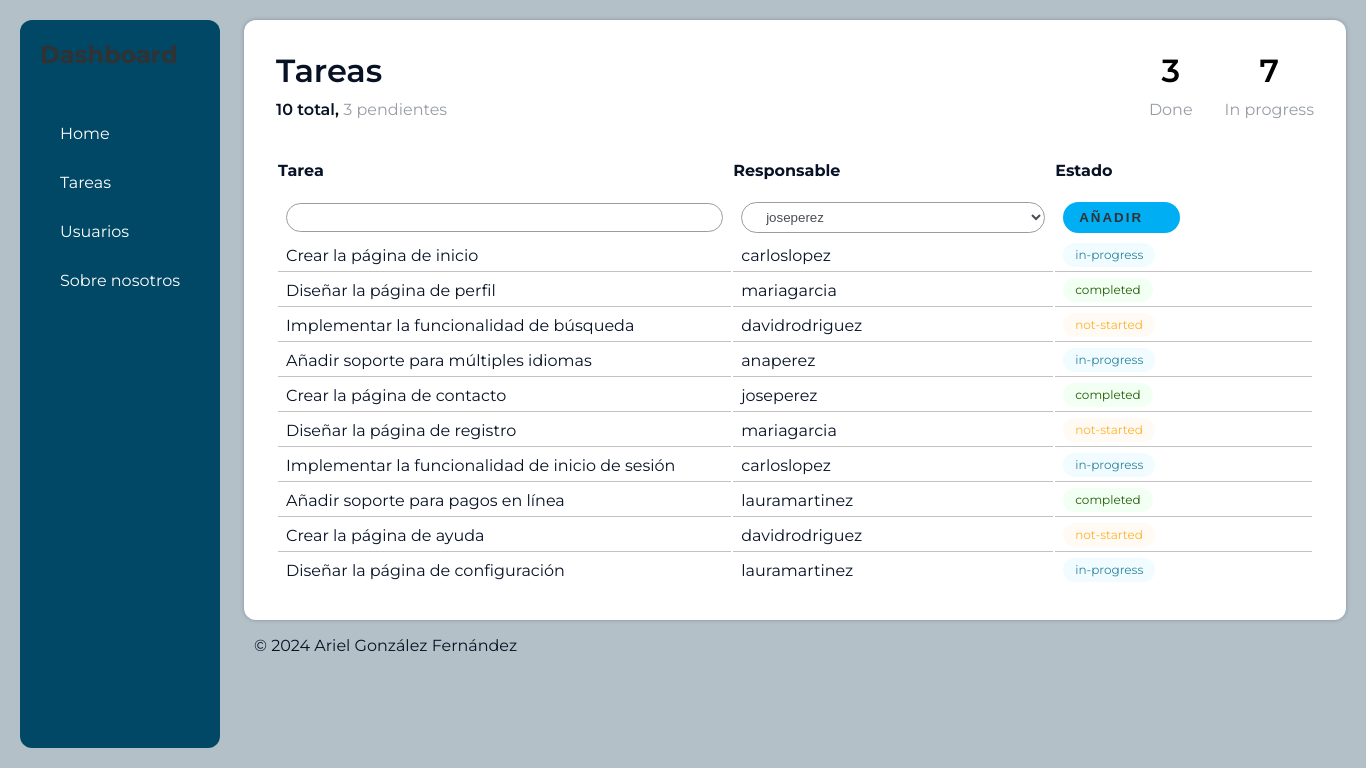
Tasks Table › should add a new task and assign it to a user
Type "Nueva Tarea" into the field with id "task-input" at (505, 218), box [286,203,723,232]
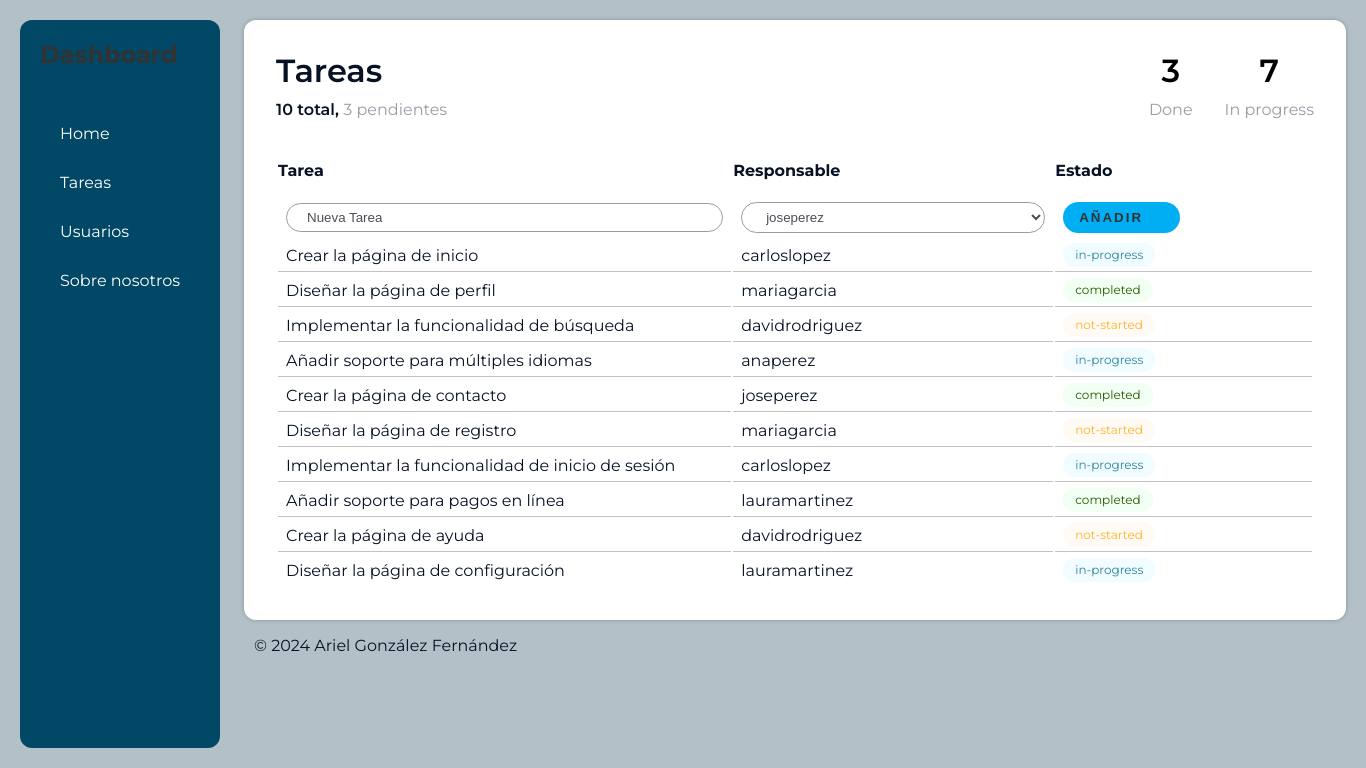
Select "joseperez" in the dropdown with id "user-select" at (893, 218), box [741,202,1045,233]
Click the button with id "create-task-button" at (1122, 218), box [1063,202,1180,233]
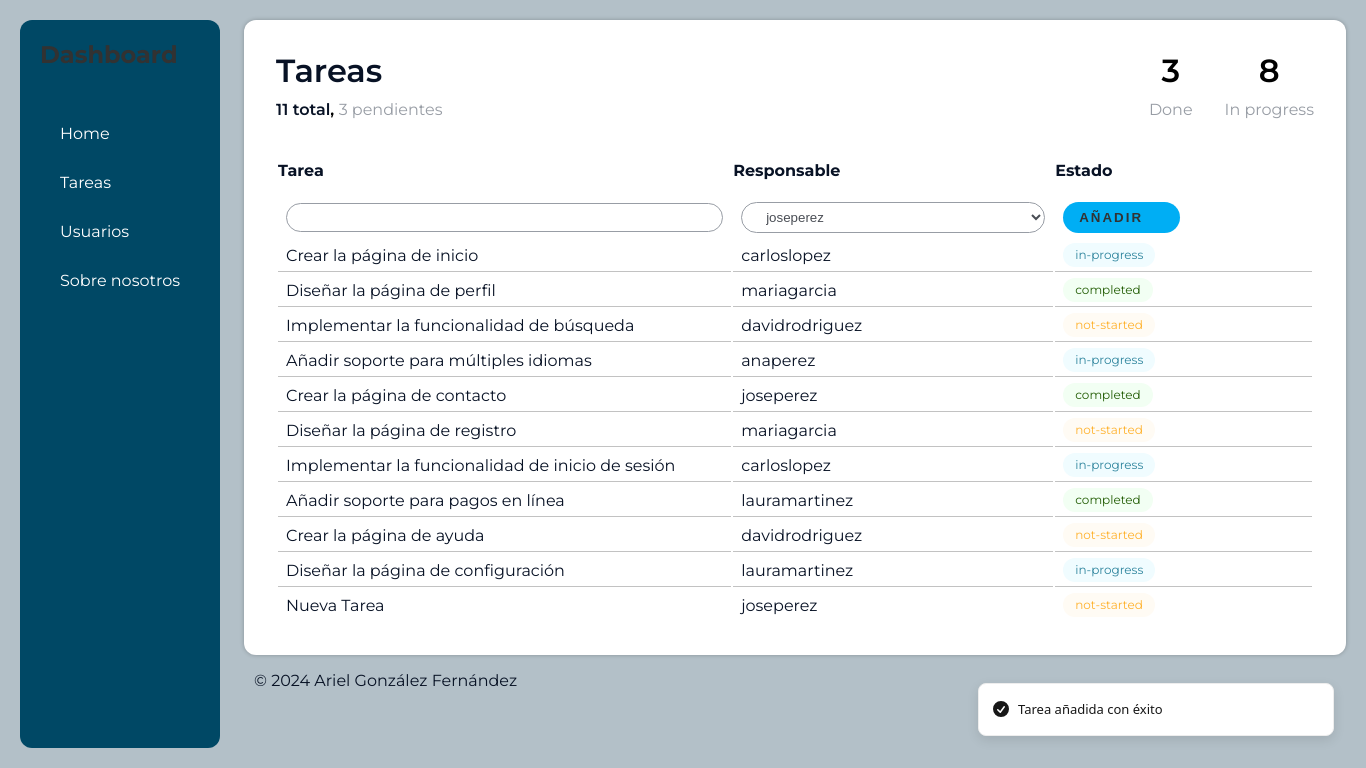
Expected: the cell "Nueva Tarea" is shown, [278,589,731,621]
Expected: the cell "joseperez" in the row of "Nueva Tarea" is shown, [741,596,817,615]
Expected: the text "not-started" in the row of "Nueva Tarea" is shown, [1075,597,1143,612]
